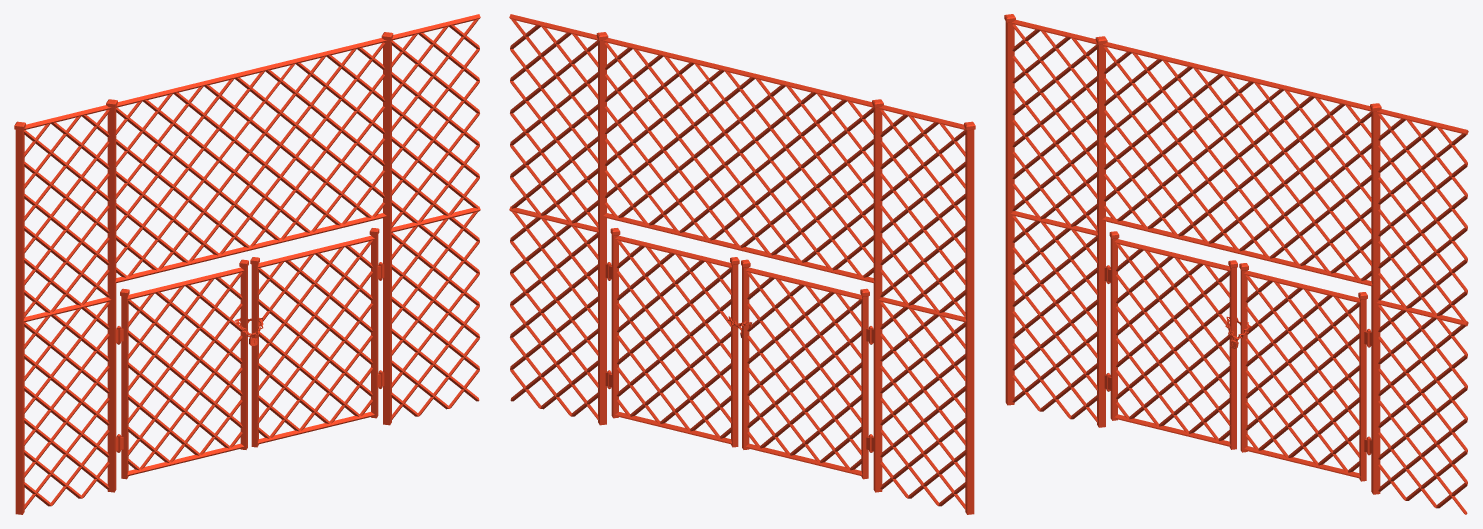
File: SM_Fence_Chainlink_Gate_Tall_City.fbx
The picture shows the model from 3 angles, left to right: view 1: azimuth 30°, elevation 25°; view 2: azimuth 150°, elevation 25°; view 3: azimuth 330°, elevation 25°; orthographic projection.
Visible parts, largest first — view 1: SM_Fence_Chainlink_Gate_Tall_City_Base, SM_Fence_Chainlink_Gate_Tall_City_Door_L, SM_Fence_Chainlink_Gate_Tall_City_Door_R; view 2: SM_Fence_Chainlink_Gate_Tall_City_Base, SM_Fence_Chainlink_Gate_Tall_City_Door_L, SM_Fence_Chainlink_Gate_Tall_City_Door_R; view 3: SM_Fence_Chainlink_Gate_Tall_City_Base, SM_Fence_Chainlink_Gate_Tall_City_Door_L, SM_Fence_Chainlink_Gate_Tall_City_Door_R.
Boxes of the visible parts, x1,y1,x2,y2 form: SM_Fence_Chainlink_Gate_Tall_City_Base: (14,14,480,514); SM_Fence_Chainlink_Gate_Tall_City_Door_L: (250,228,382,447); SM_Fence_Chainlink_Gate_Tall_City_Door_R: (116,259,248,479); SM_Fence_Chainlink_Gate_Tall_City_Base: (509,14,975,514); SM_Fence_Chainlink_Gate_Tall_City_Door_L: (607,228,739,447); SM_Fence_Chainlink_Gate_Tall_City_Door_R: (741,259,873,479); SM_Fence_Chainlink_Gate_Tall_City_Base: (1004,14,1468,514); SM_Fence_Chainlink_Gate_Tall_City_Door_L: (1239,263,1370,481); SM_Fence_Chainlink_Gate_Tall_City_Door_R: (1106,231,1237,449).
Size of the model in its own units: 5.06 by 4.05 by 0.1889.
